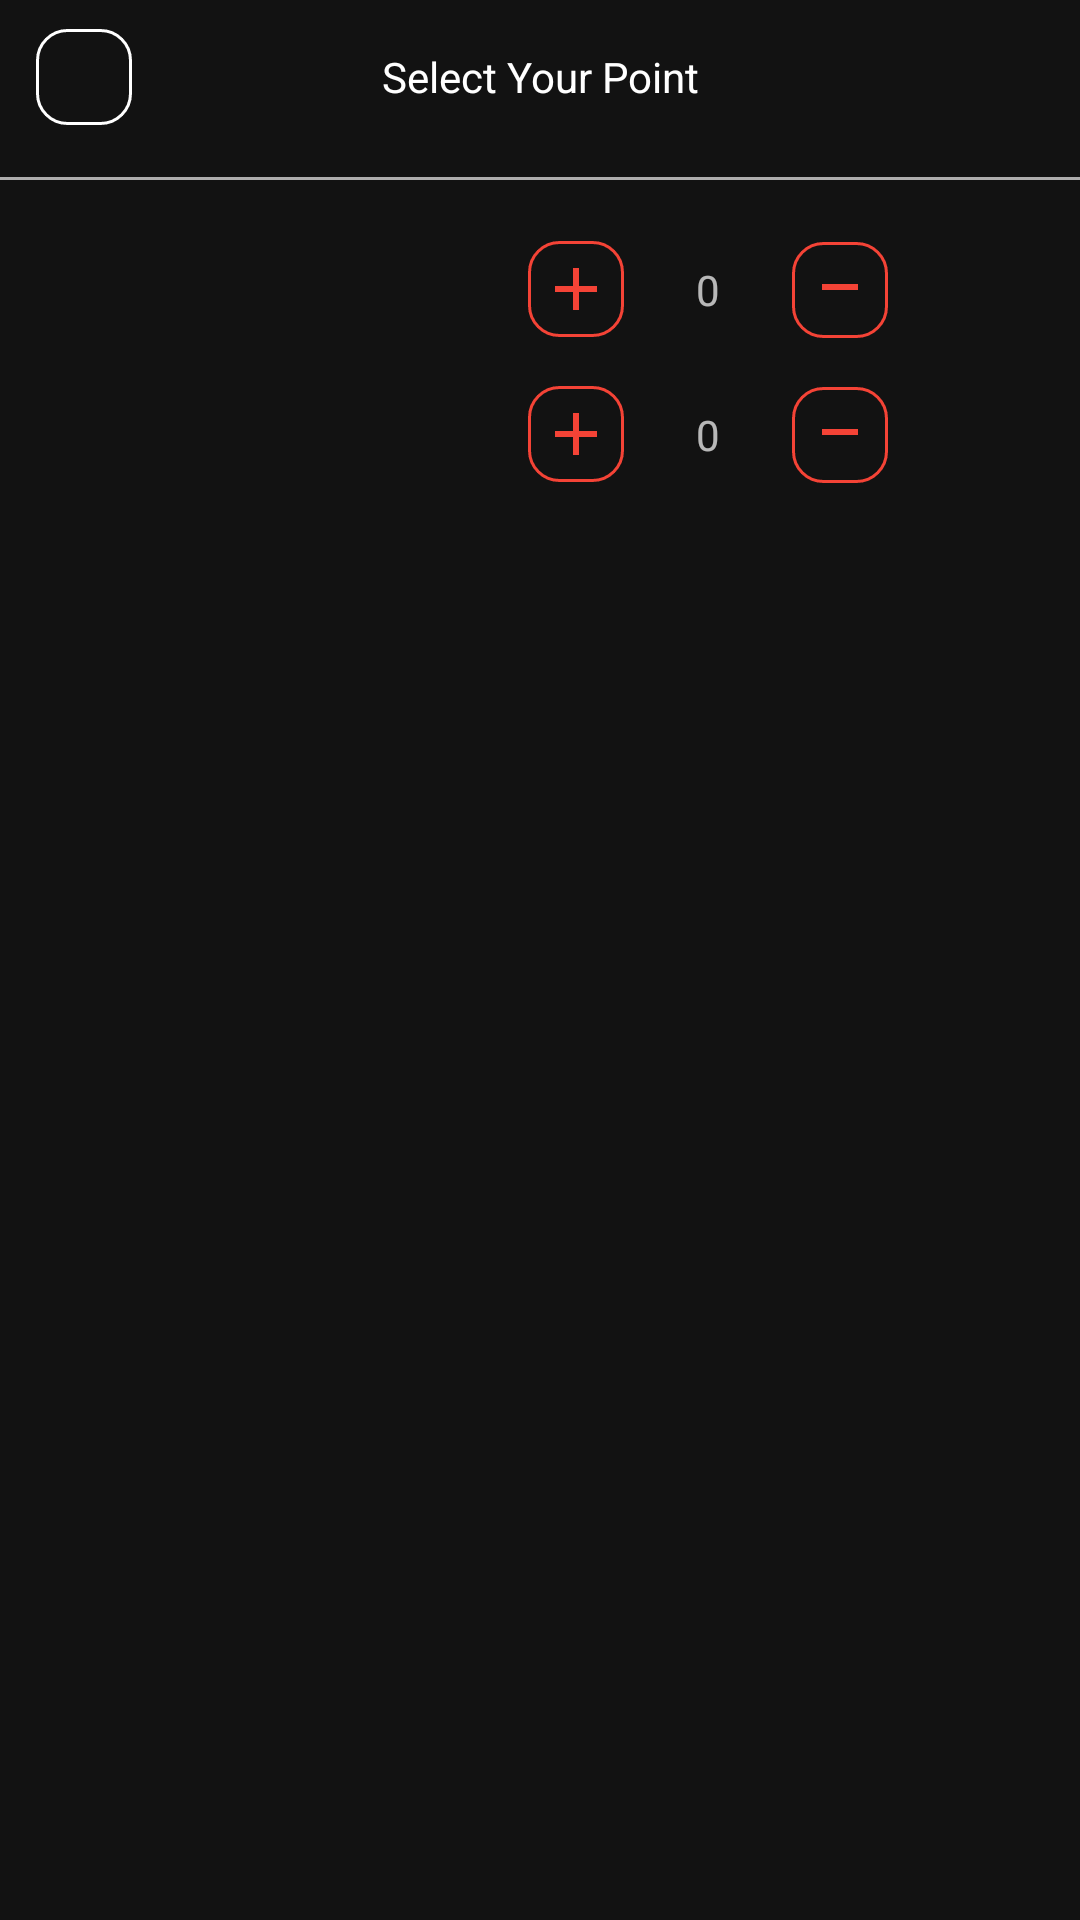

Where to tap for icons on this 1080px×1920px app screen, as point (x, y):
add: point (576, 289), point (576, 434)
minus: point (840, 290), point (840, 435)
